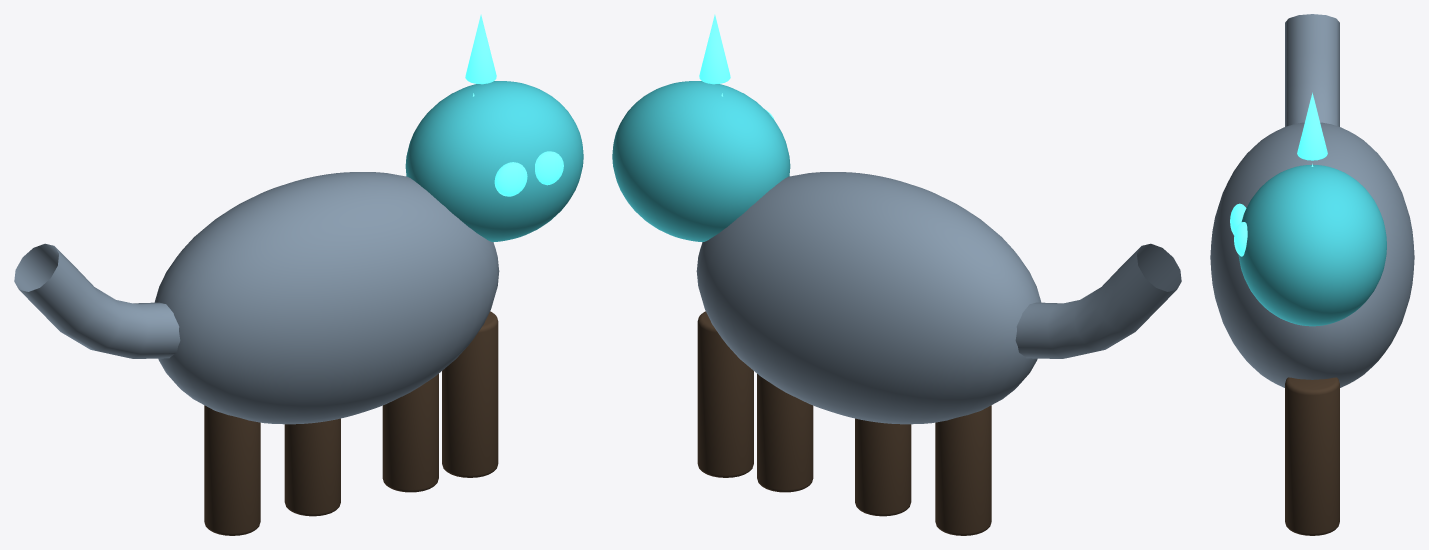
The model's file is dragon_v3.glb.
The picture shows the model from 3 angles, left to right: view 1: azimuth 30°, elevation 25°; view 2: azimuth 150°, elevation 25°; view 3: azimuth 270°, elevation 25°; orthographic projection. The views are drawn at different scales.
Parts seen in each view (by area): view 1: DRAKE_BODY_PRIMARY, DRAKE_HEAD_ACCENT, DRAKE_TAIL_PRIMARY, DRAKE_LEG_SECONDARY.003, DRAKE_LEG_SECONDARY, DRAKE_LEG_SECONDARY.002, DRAKE_LEG_SECONDARY.001, DRAKE_HORN_EMISSIVE.002, EYE_EMISSIVE, EYE_EMISSIVE.001; view 2: DRAKE_BODY_PRIMARY, DRAKE_HEAD_ACCENT, DRAKE_TAIL_PRIMARY, DRAKE_LEG_SECONDARY.003, DRAKE_LEG_SECONDARY, DRAKE_LEG_SECONDARY.002, DRAKE_LEG_SECONDARY.001, DRAKE_HORN_EMISSIVE.002; view 3: DRAKE_BODY_PRIMARY, DRAKE_HEAD_ACCENT, DRAKE_LEG_SECONDARY.003, DRAKE_TAIL_PRIMARY, DRAKE_HORN_EMISSIVE.002, EYE_EMISSIVE.001, EYE_EMISSIVE.
Boxes of the visible parts, x1,y1,x2,y2 form: DRAKE_BODY_PRIMARY: (154, 172, 499, 424); DRAKE_HEAD_ACCENT: (405, 81, 583, 242); DRAKE_TAIL_PRIMARY: (14, 243, 180, 358); DRAKE_LEG_SECONDARY.003: (442, 311, 498, 477); DRAKE_LEG_SECONDARY: (204, 405, 260, 535); DRAKE_LEG_SECONDARY.002: (382, 374, 438, 492); DRAKE_LEG_SECONDARY.001: (284, 418, 340, 516); DRAKE_HORN_EMISSIVE.002: (465, 14, 496, 84); EYE_EMISSIVE: (494, 162, 527, 196); EYE_EMISSIVE.001: (535, 151, 563, 185); DRAKE_BODY_PRIMARY: (696, 172, 1041, 424); DRAKE_HEAD_ACCENT: (612, 81, 790, 242); DRAKE_TAIL_PRIMARY: (1015, 243, 1181, 358); DRAKE_LEG_SECONDARY.003: (697, 311, 753, 477); DRAKE_LEG_SECONDARY: (935, 405, 991, 535); DRAKE_LEG_SECONDARY.002: (757, 374, 813, 492); DRAKE_LEG_SECONDARY.001: (855, 418, 911, 516); DRAKE_HORN_EMISSIVE.002: (699, 14, 730, 84); DRAKE_BODY_PRIMARY: (1210, 122, 1414, 387); DRAKE_HEAD_ACCENT: (1238, 165, 1386, 326); DRAKE_LEG_SECONDARY.003: (1285, 377, 1339, 535); DRAKE_TAIL_PRIMARY: (1285, 14, 1339, 126); DRAKE_HORN_EMISSIVE.002: (1297, 92, 1327, 160); EYE_EMISSIVE.001: (1234, 222, 1247, 256); EYE_EMISSIVE: (1230, 203, 1246, 235).
Bounding box in the file's own units: 3.18 × 2.46 × 1.04.
